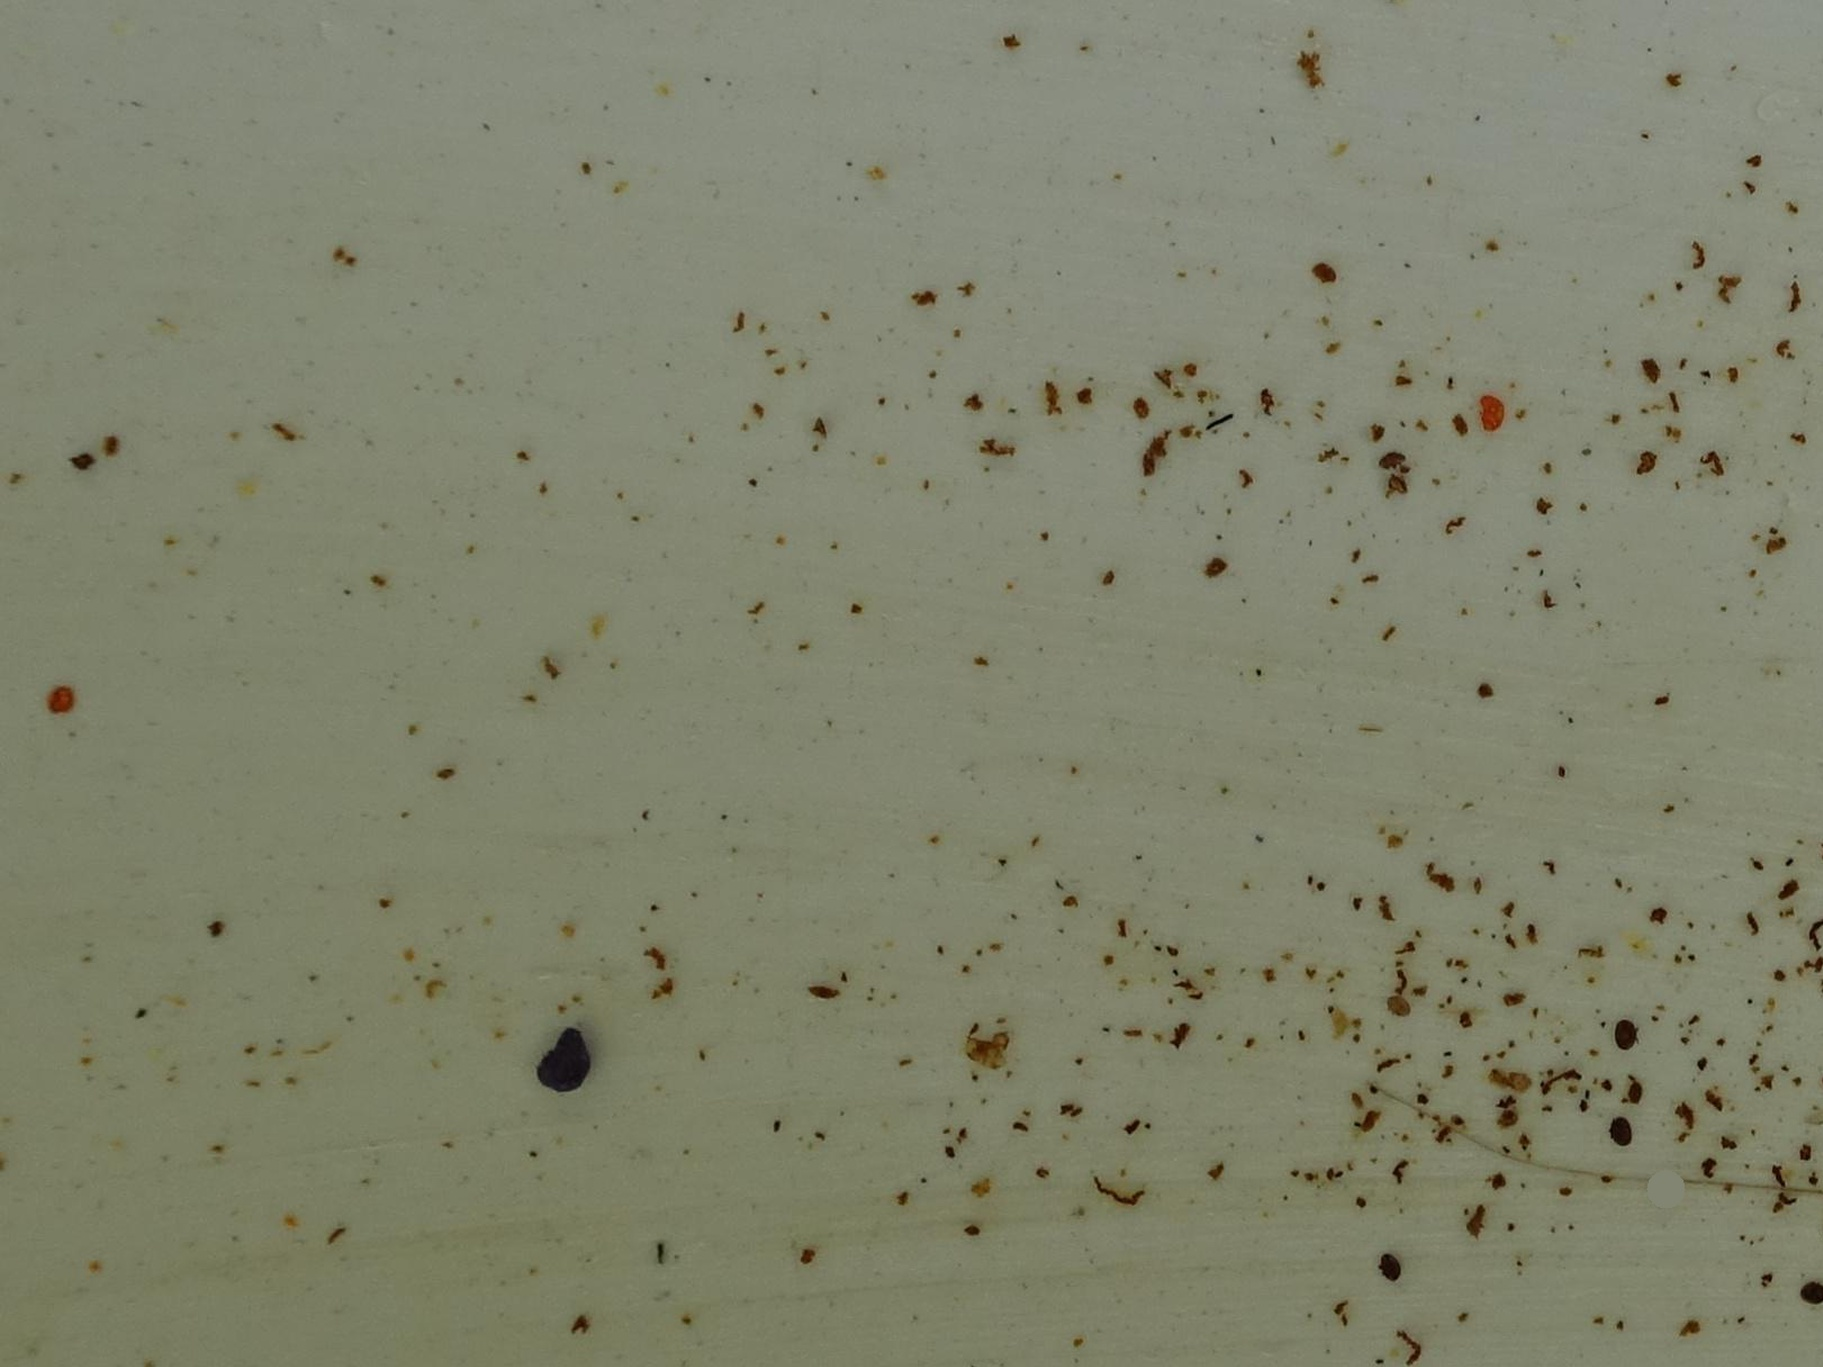Varroa: (1387, 994, 1412, 1017), (1379, 1255, 1401, 1277), (1615, 1022, 1635, 1044), (1613, 1121, 1631, 1142)
